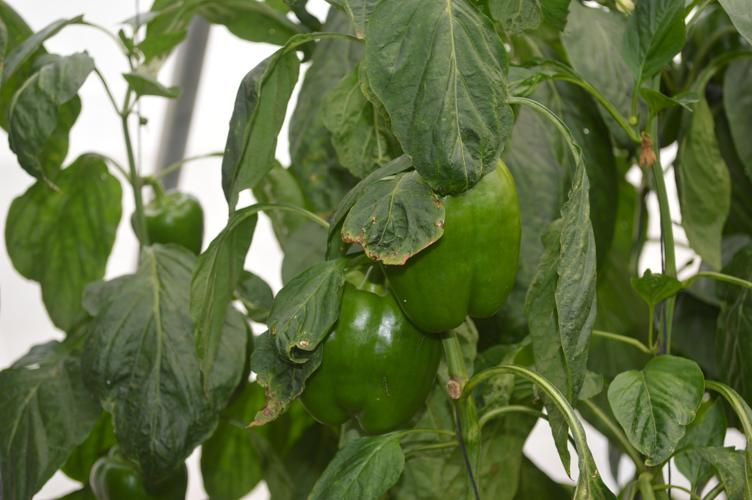BellPepper: (298, 278, 440, 436), (388, 159, 520, 328), (136, 190, 201, 260)
